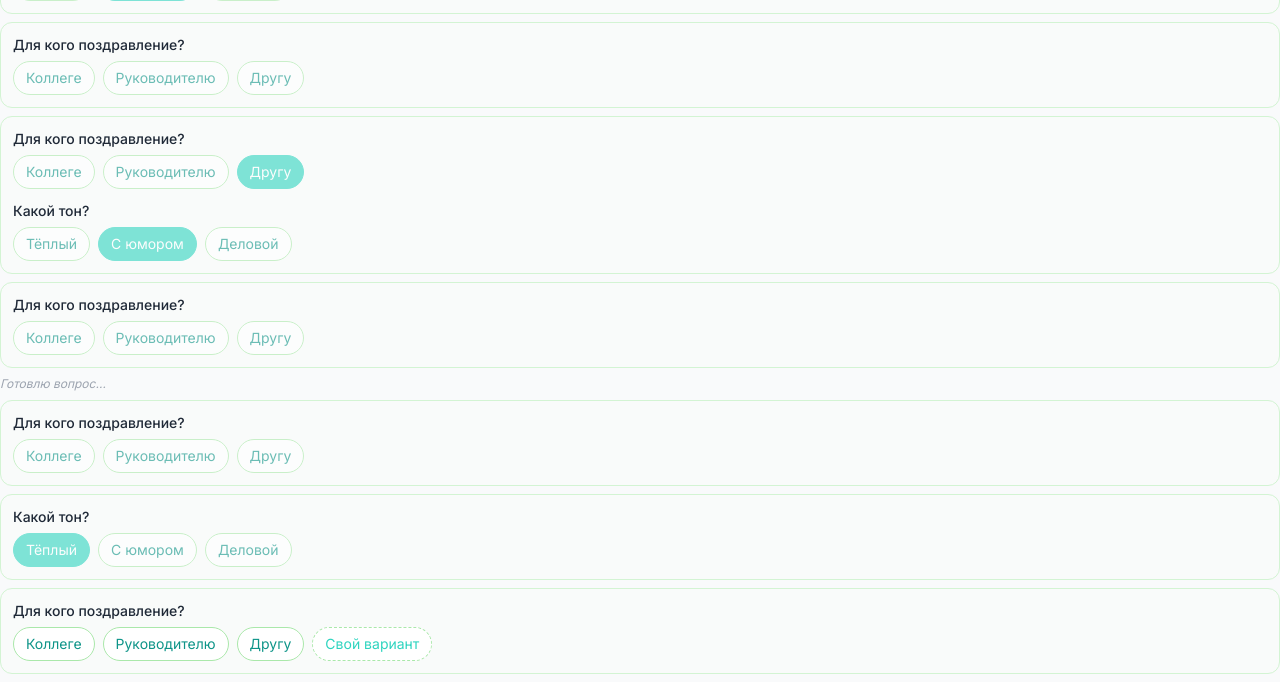
Test: карточка вопроса › кнопка «Свой вариант» — aria-expanded (раскрывает поле), а не aria-pressed (это не выбор)
(page scrolled)
Step 1. Click the button "Свой вариант" → (372, 644), box [312,627,432,661]
(page scrolled)
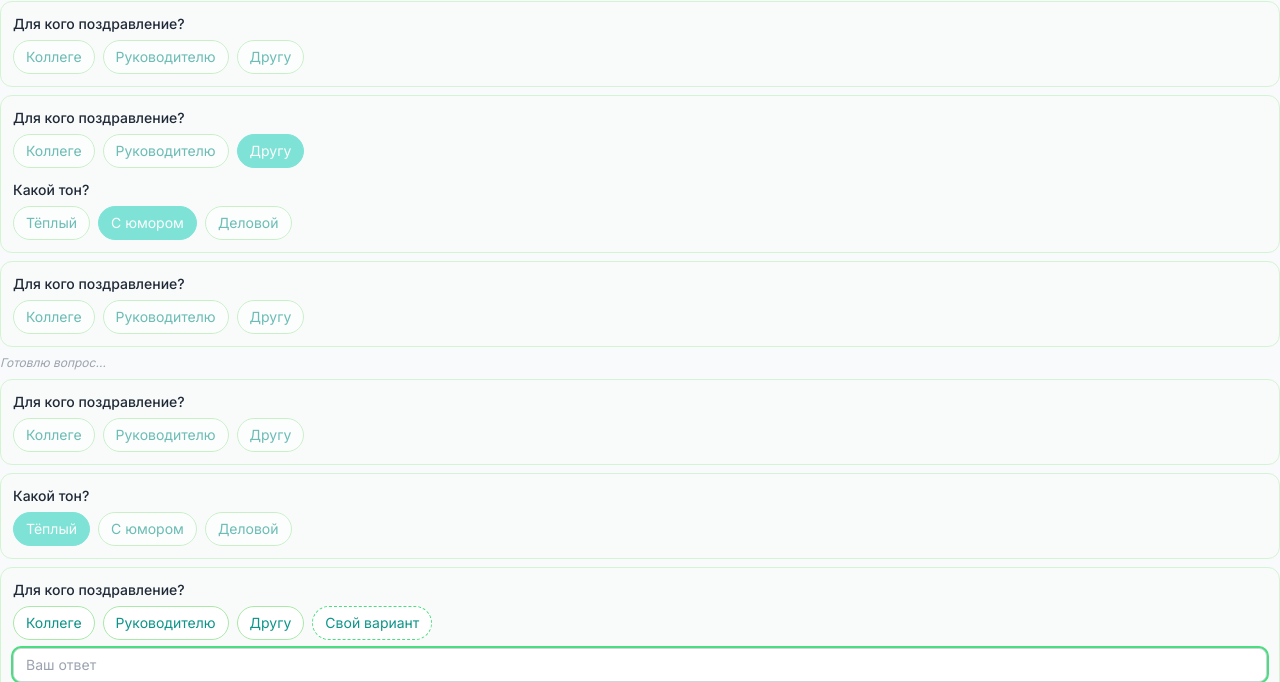
Expected: the button "Свой вариант" is expanded, [312,606,432,640]
